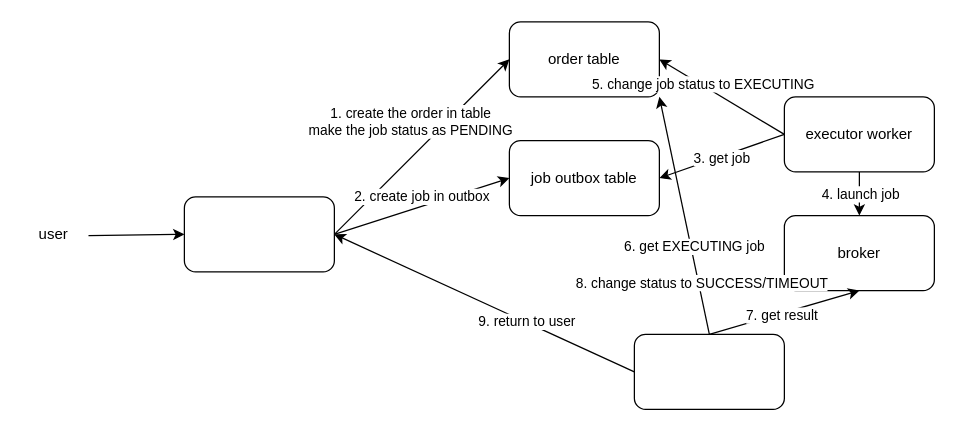
The diagram is 956 pixels wide and 431 high, and some of its shapes have lost their labels. The shapes that lost their labels are listed below. From the top down, each one's box as (x1, y1, x2, y2) in pixels, then its label:
(183, 196, 334, 272): buy/sell service
(633, 333, 784, 409): message retriever worker
